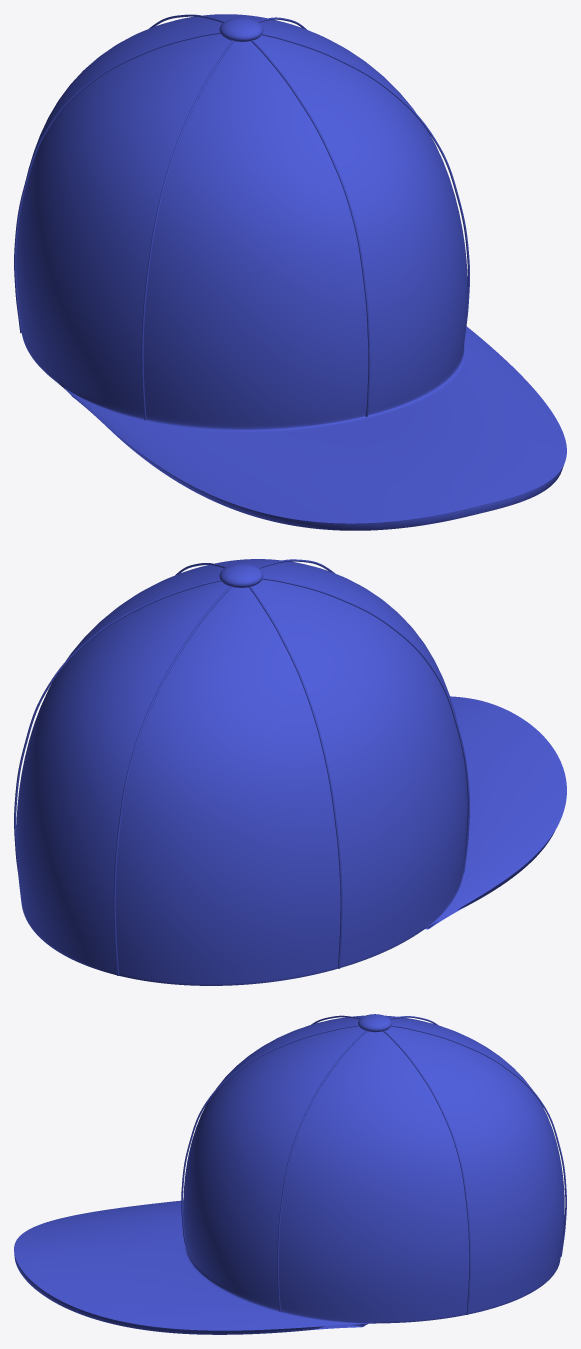
File: baseball_cap.glb
3 renders of one model, top to bottom at view 1: azimuth 30°, elevation 25°; view 2: azimuth 150°, elevation 25°; view 3: azimuth 270°, elevation 25°, orthographic. The views are drawn at different scales.
Visible parts, largest first — view 1: Connected_crown_and_bill, Fine_panel_seam_1, Fine_panel_seam_5, Fine_panel_seam_6, Fine_panel_seam_2, Cloth_button; view 2: Connected_crown_and_bill, Fine_panel_seam_4, Fine_panel_seam_6, Fine_panel_seam_5, Fine_panel_seam_3, Cloth_button; view 3: Connected_crown_and_bill, Fine_panel_seam_4, Fine_panel_seam_1, Fine_panel_seam_2, Fine_panel_seam_3, Cloth_button.
Boxes of the visible parts, x1,y1,x2,y2 form: Connected_crown_and_bill: (16, 14, 566, 530); Fine_panel_seam_1: (251, 40, 370, 416); Fine_panel_seam_5: (14, 32, 220, 333); Fine_panel_seam_6: (141, 40, 233, 419); Fine_panel_seam_2: (262, 33, 469, 333); Cloth_button: (219, 17, 263, 41); Connected_crown_and_bill: (16, 559, 566, 985); Fine_panel_seam_4: (113, 586, 231, 975); Fine_panel_seam_6: (262, 577, 469, 873); Fine_panel_seam_5: (248, 586, 342, 968); Fine_panel_seam_3: (14, 579, 220, 874); Cloth_button: (219, 563, 263, 587); Connected_crown_and_bill: (14, 1015, 564, 1334); Fine_panel_seam_4: (391, 1025, 566, 1256); Fine_panel_seam_1: (181, 1025, 358, 1245); Fine_panel_seam_2: (277, 1030, 366, 1311); Fine_panel_seam_3: (383, 1030, 470, 1314); Cloth_button: (358, 1014, 391, 1032).
Bounding box in the file's own units: 0.7003 × 0.6021 × 1.19.
